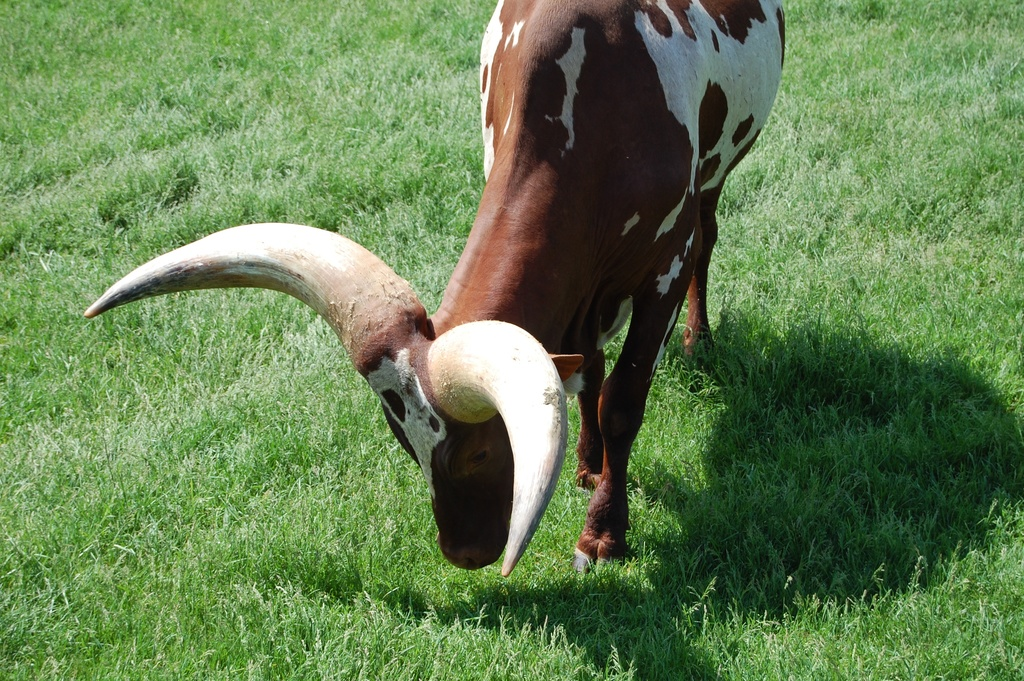Animal: (83, 0, 795, 578)
